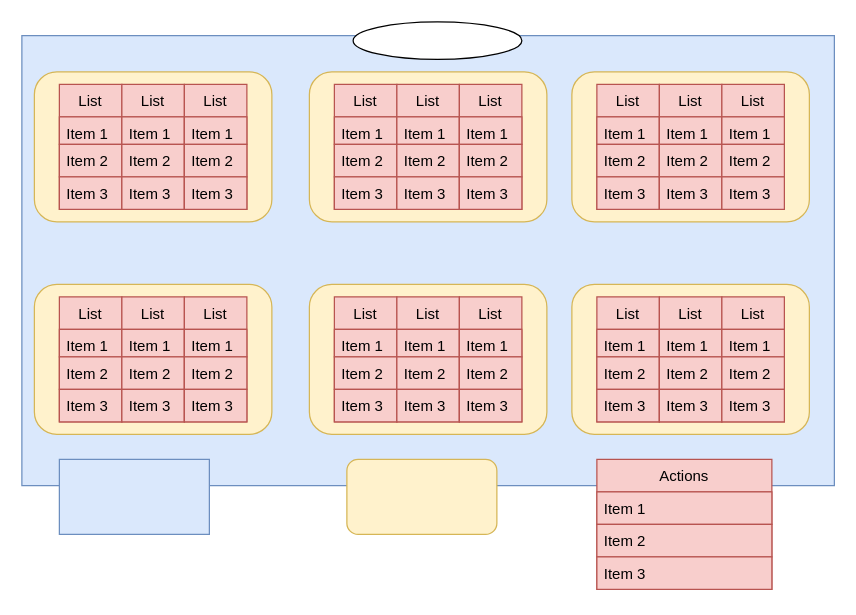
This 856x615 diagram has some shape labels left out. The centre of each missing label's shape, as x and y in pixels:
"REDUCER" belongs at [421,496].
"REDUX" belongs at [437,40].
"STORE" belongs at [133,496].
